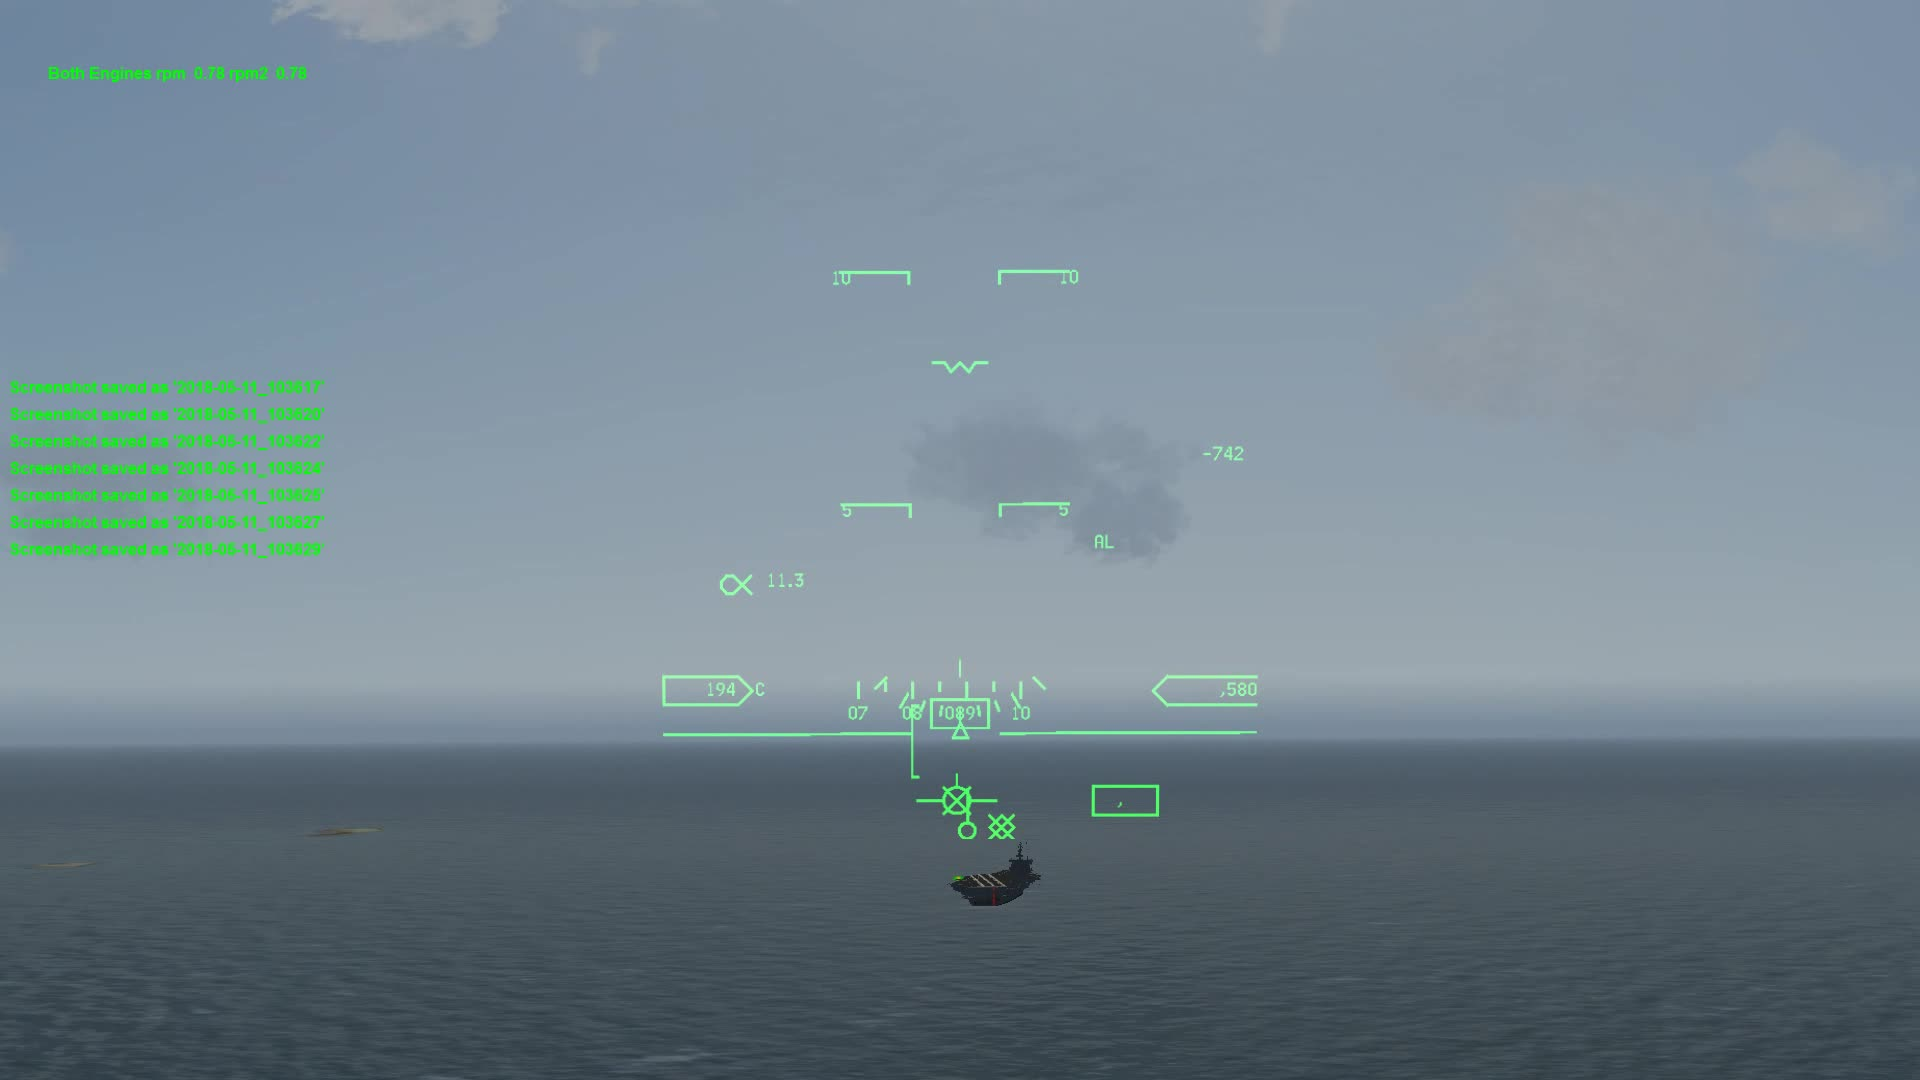speed vector: (915, 774, 1002, 814)
